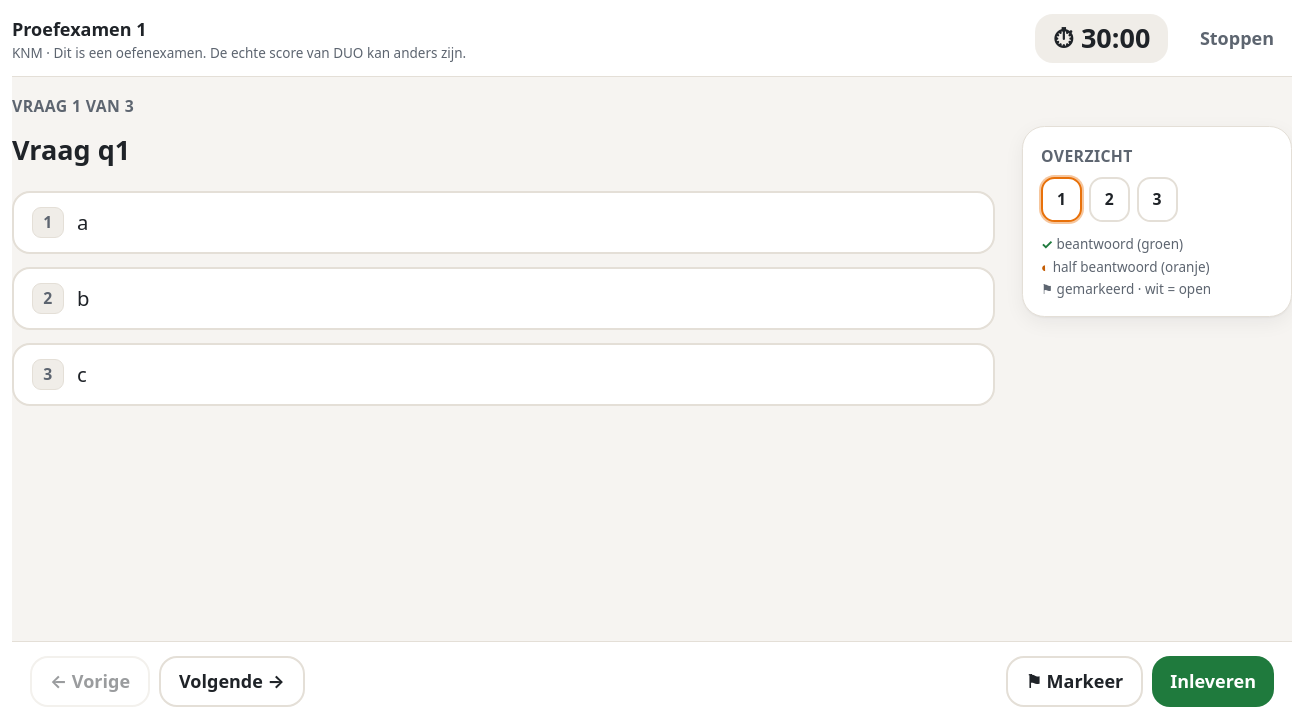
it: answering and saving › if saving fails the learner is told their answers are still on screen
The width and height of the screenshot is (1304, 720).
Click the button "1 a" at x=48, y=222, box [12,191,995,254]
Wait 400 ms
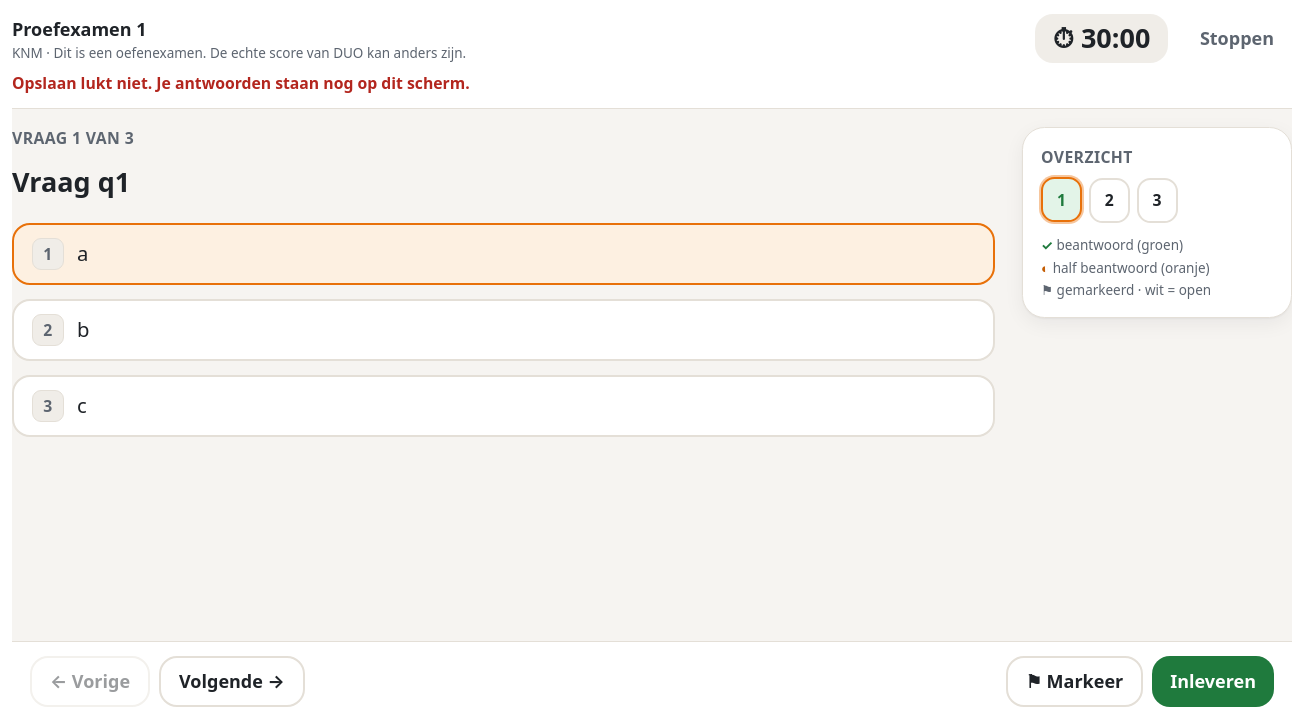
Check: the text "Opslaan lukt niet. Je antwoorden staan nog op dit scherm." is shown, box [12,72,470,94]
Click the button "2 b" at x=48, y=330, box [12,299,995,361]
Wait 400 ms
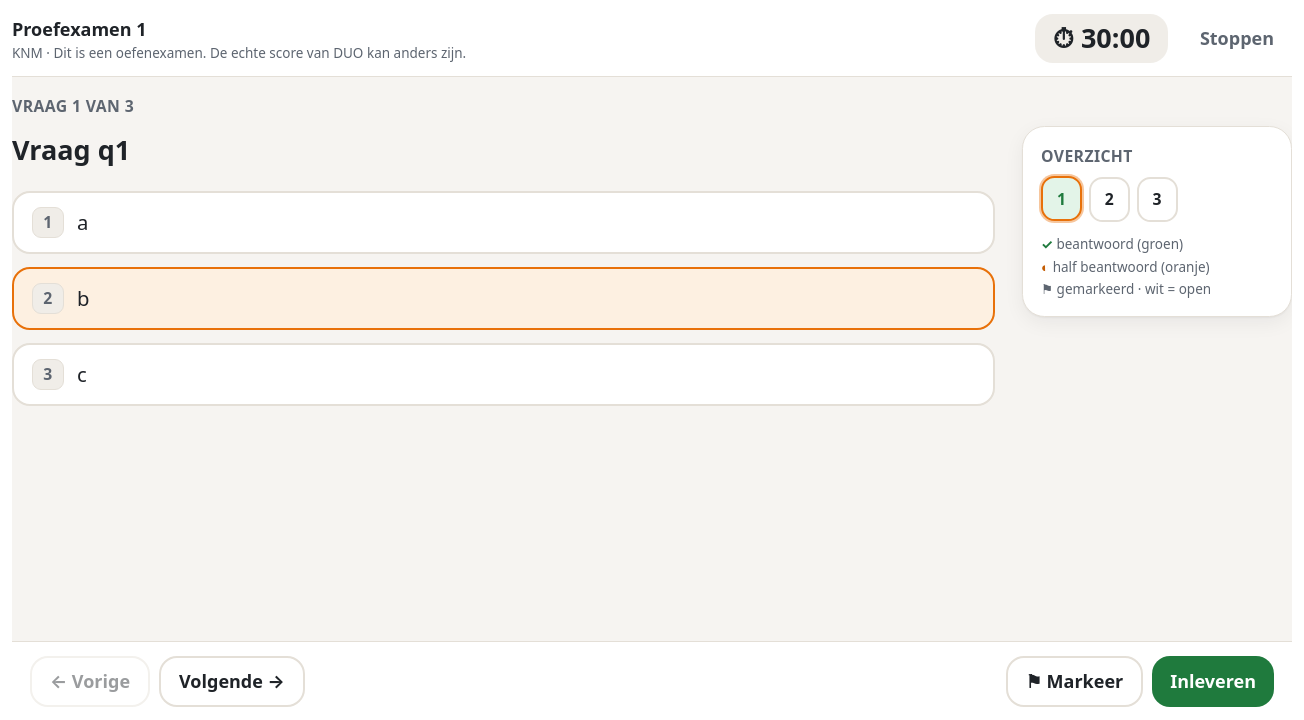
Check: the text "Opslaan lukt niet" is gone
